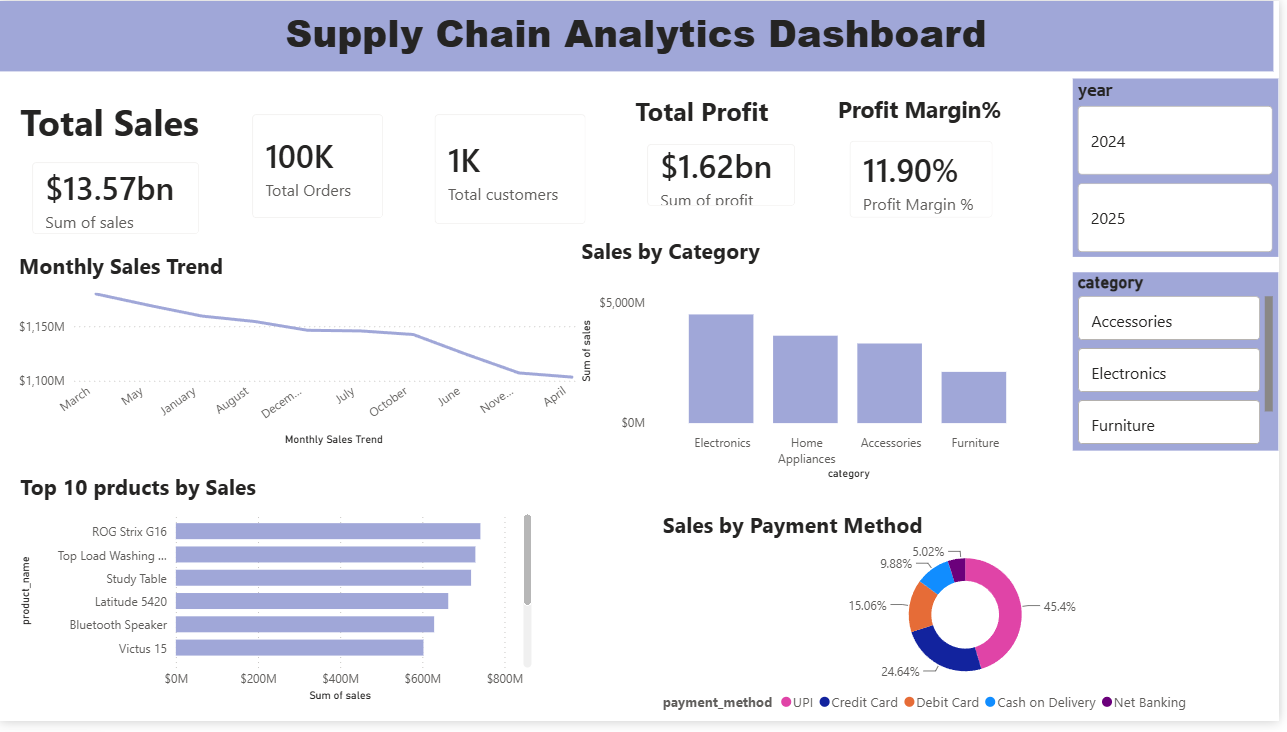

What the dashboard file says about the page in this screenshot:
{"tool":"powerbi","page":{"name":"Executive Dashboard","canvas":[1280,720],"ordinal":0},"visuals":[{"type":"cardVisual","title":"Total Sales","fields":{"Data":["Sum(public orders.sales)"]},"box":[15.7,95.7,201.4,154.3],"z":0},{"type":"lineChart","title":"Monthly Sales Trend","fields":{"Category":["public calendar.month_name"],"Y":["Sum(public orders.sales)"]},"box":[14.9,250.6,584.3,199.7],"z":1000},{"type":"donutChart","title":"Sales by Payment Method","fields":{"Category":["public orders.payment_method"],"Y":["Sum(public orders.sales)"]},"box":[658.7,508.6,615.3,210.9],"z":2000},{"type":"advancedSlicerVisual","fields":{"Values":["public calendar.year"]},"box":[1074.3,77.1,205.7,178.6],"z":3000},{"type":"cardVisual","title":"Total Profit","fields":{"Data":["Sum(public orders.profit)"]},"box":[631.4,92.9,182.9,130],"z":4000},{"type":"cardVisual","title":"Profit Margin%","fields":{"Data":["public calendar.Profit Margin %"]},"box":[834.3,92.9,177.1,141.4],"z":5000},{"type":"cardVisual","fields":{"Data":["public calendar.Total Orders"]},"box":[235.7,95.7,165.7,138.6],"z":6000},{"type":"cardVisual","fields":{"Data":["public calendar.Total customers"]},"box":[418.6,95.7,185.7,144.3],"z":7000},{"type":"advancedSlicerVisual","fields":{"Values":["public products.category"]},"box":[1074.3,271.4,205.7,178.6],"z":8000},{"type":"clusteredBarChart","title":"Top 10 prducts by Sales","fields":{"Category":["public products.product_name"],"Y":["Sum(public orders.sales)"]},"box":[15.7,471.4,521.4,234.3],"z":9000},{"type":"clusteredColumnChart","title":"Sales by Category","fields":{"Category":["public products.category"],"Y":["Sum(public orders.sales)"]},"box":[578.1,234.5,471.4,248.1],"z":10000},{"type":"textbox","box":[0,0,1274.3,70],"z":11000}]}

Visuals, with their boxes in screenshot pixels (x1, y1, x2, y2), scaled from the page's 1280x720 canvas onto the 1287x732 screenshot:
"Total Sales" cardVisual: 16,97,218,254
"Monthly Sales Trend" lineChart: 15,255,602,458
"Sales by Payment Method" donutChart: 662,517,1281,731
advancedSlicerVisual - public calendar.year: 1080,78,1286,260
"Total Profit" cardVisual: 635,94,819,227
"Profit Margin%" cardVisual: 839,94,1017,238
cardVisual - public calendar.Total Orders: 237,97,404,238
cardVisual - public calendar.Total customers: 421,97,608,244
advancedSlicerVisual - public products.category: 1080,276,1286,458
"Top 10 prducts by Sales" clusteredBarChart: 16,479,540,717
"Sales by Category" clusteredColumnChart: 581,238,1055,491
textbox: 0,0,1281,71
